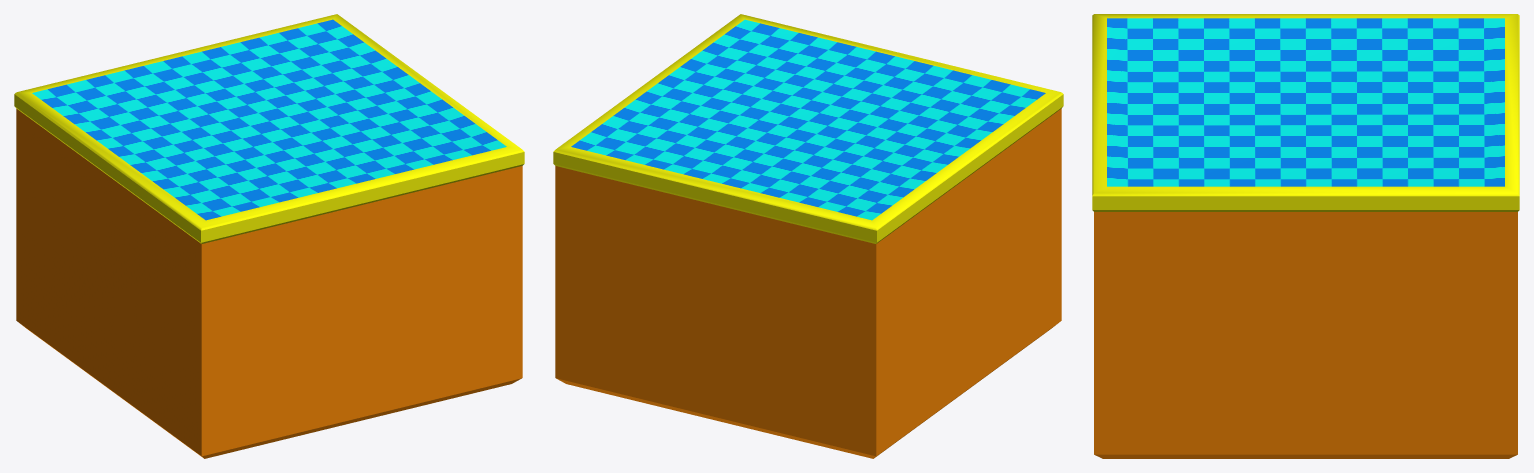
File: MachineBossPlanet.fbx
3 renders of one model, left to right at view 1: azimuth 30°, elevation 25°; view 2: azimuth 150°, elevation 25°; view 3: azimuth 270°, elevation 25°, orthographic. The views are drawn at different scales.
Parts seen in each view (by area): view 1: BossPlanet; view 2: BossPlanet; view 3: BossPlanet.
Part boxes in pixels (x1,y1,x2,y2): BossPlanet: (14,14,524,458); BossPlanet: (553,14,1063,458); BossPlanet: (1092,14,1519,458).
Bounding box in the file's own units: 291069 × 203333 × 291069.
Materials: 3 (3 with a texture image).
